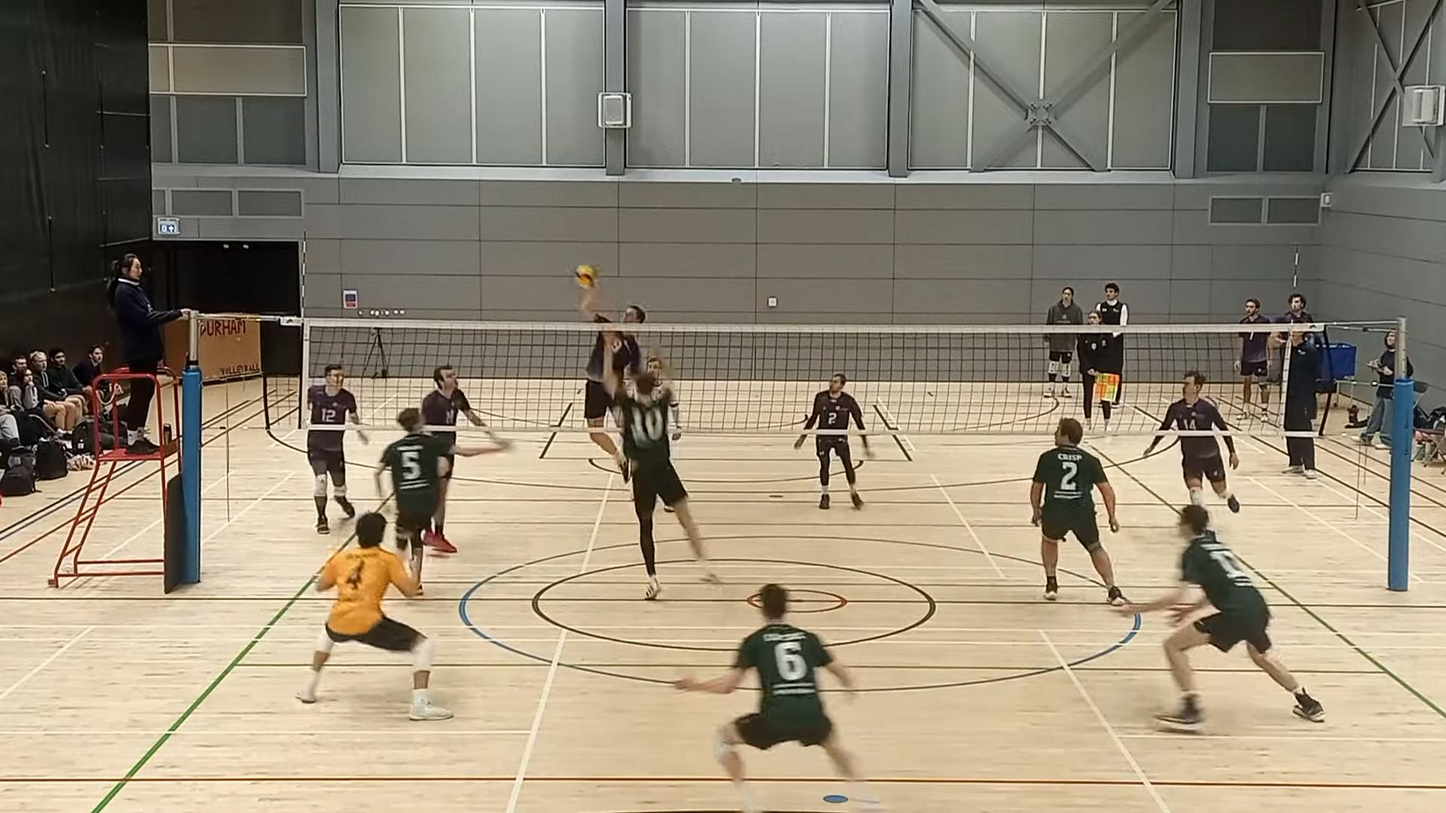attacco: (572, 272, 651, 478)
muro: (598, 325, 721, 599)
